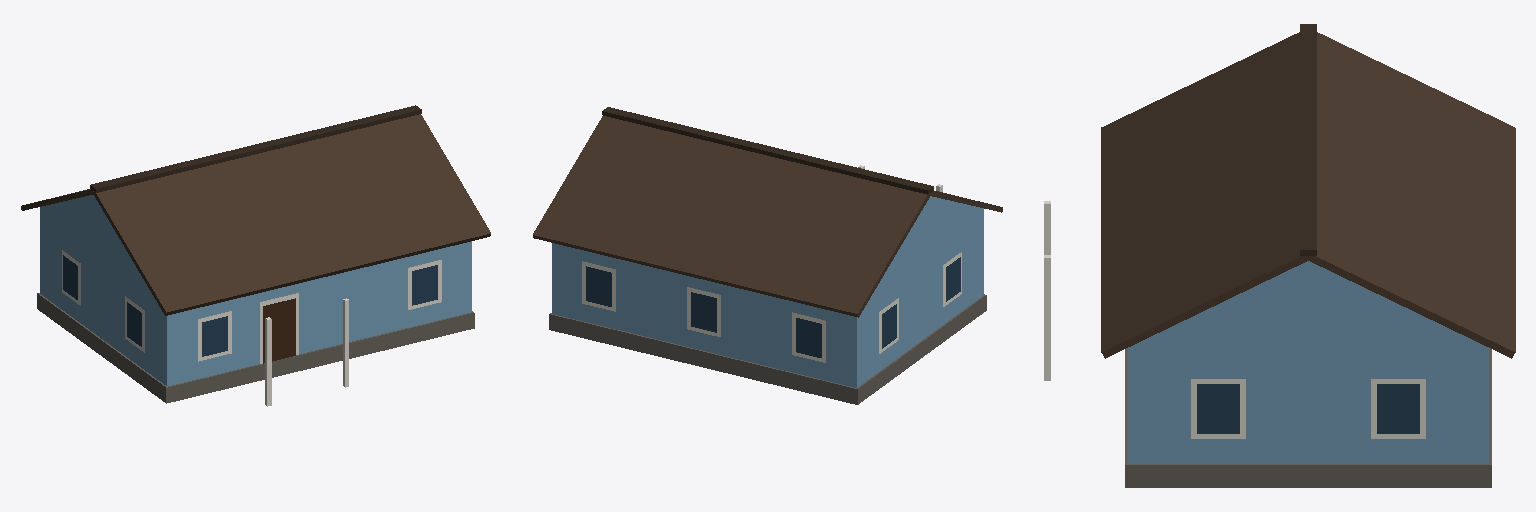
URDF robot description (house_02):
<?xml version="1.0" encoding="utf-8"?>
<!-- Generated by tools/generate_assets.py -->
<robot name="house_02">
  <link name="base_link">
    <inertial>
      <mass value="0" />
      <inertia ixx="0" ixy="0" ixz="0" iyy="0" iyz="0" izz="0" />
    </inertial>
    <visual name="part_0">
      <geometry><mesh filename="meshes/house_02_v0.obj" /></geometry>
      <material name="house_02_0"><color rgba="0.45 0.43 0.4 1" /></material>
    </visual>
    <visual name="part_1">
      <geometry><mesh filename="meshes/house_02_v1.obj" /></geometry>
      <material name="house_02_1"><color rgba="0.5 0.66 0.76 1" /></material>
    </visual>
    <visual name="part_2">
      <geometry><mesh filename="meshes/house_02_v2.obj" /></geometry>
      <material name="house_02_2"><color rgba="0.33 0.27 0.22 1" /></material>
    </visual>
    <visual name="part_3">
      <geometry><mesh filename="meshes/house_02_v3.obj" /></geometry>
      <material name="house_02_3"><color rgba="0.264 0.216 0.176 1" /></material>
    </visual>
    <visual name="part_4">
      <geometry><mesh filename="meshes/house_02_v4.obj" /></geometry>
      <material name="house_02_4"><color rgba="0.55 0.3 0.24 1" /></material>
    </visual>
    <visual name="part_5">
      <geometry><mesh filename="meshes/house_02_v5.obj" /></geometry>
      <material name="house_02_5"><color rgba="0.3 0.22 0.15 1" /></material>
    </visual>
    <visual name="part_6">
      <geometry><mesh filename="meshes/house_02_v6.obj" /></geometry>
      <material name="house_02_6"><color rgba="0.9 0.89 0.85 1" /></material>
    </visual>
    <visual name="part_7">
      <geometry><mesh filename="meshes/house_02_v7.obj" /></geometry>
      <material name="house_02_7"><color rgba="0.2 0.3 0.38 1" /></material>
    </visual>
    <visual name="part_8">
      <geometry><mesh filename="meshes/house_02_v8.obj" /></geometry>
      <material name="house_02_8"><color rgba="0.42 0.32 0.24 1" /></material>
    </visual>
    <collision name="hull_0">
      <geometry><mesh filename="meshes/house_02_c0.obj" /></geometry>
    </collision>
    <collision name="hull_1">
      <geometry><mesh filename="meshes/house_02_c1.obj" /></geometry>
    </collision>
    <collision name="hull_2">
      <geometry><mesh filename="meshes/house_02_c2.obj" /></geometry>
    </collision>
    <collision name="hull_3">
      <geometry><mesh filename="meshes/house_02_c3.obj" /></geometry>
    </collision>
    <collision name="hull_4">
      <geometry><mesh filename="meshes/house_02_c4.obj" /></geometry>
    </collision>
    <collision name="hull_5">
      <geometry><mesh filename="meshes/house_02_c5.obj" /></geometry>
    </collision>
    <collision name="hull_6">
      <geometry><mesh filename="meshes/house_02_c6.obj" /></geometry>
    </collision>
  </link>
</robot>

--- Render facts (derived) ---
3 views of the same robot in one strip: view 1: azimuth 30°, elevation 25°; view 2: azimuth 150°, elevation 25°; view 3: azimuth 270°, elevation 25° (orthographic).
Model house_02 with 1 links and 0 joints (none), rooted at base_link, posed all joints at 0.
Visible links, largest first — view 1: base_link; view 2: base_link; view 3: base_link.
Link boxes in pixels (<box>): base_link: <box>21,105,490,406</box>; base_link: <box>533,107,1002,404</box>; base_link: <box>1044,24,1515,487</box>.
Bounding box of the posed robot: 9.62 × 8.49 × 4.85 m (x, y, z).
7 mesh visuals loaded from 9 distinct referenced files (7 OBJ); not drawn: 2 (reference not matched to a file when rendering).
